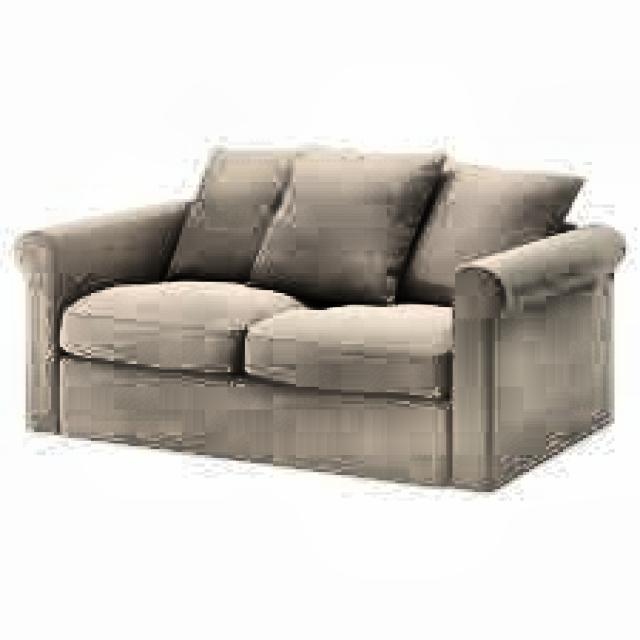sofa: (23, 139, 634, 498)
